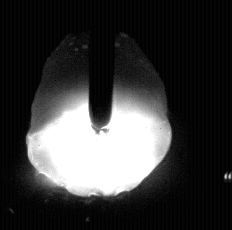arame: (90, 0, 114, 134)
poca: (26, 0, 173, 230)
